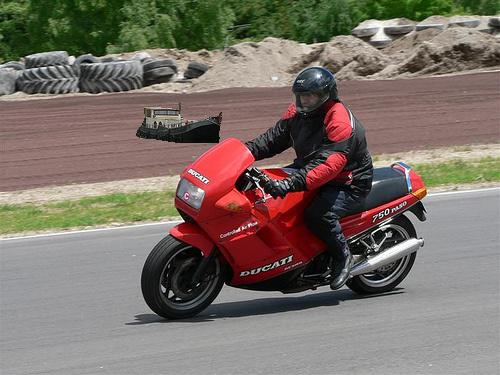tampered: (137, 103, 222, 143)
